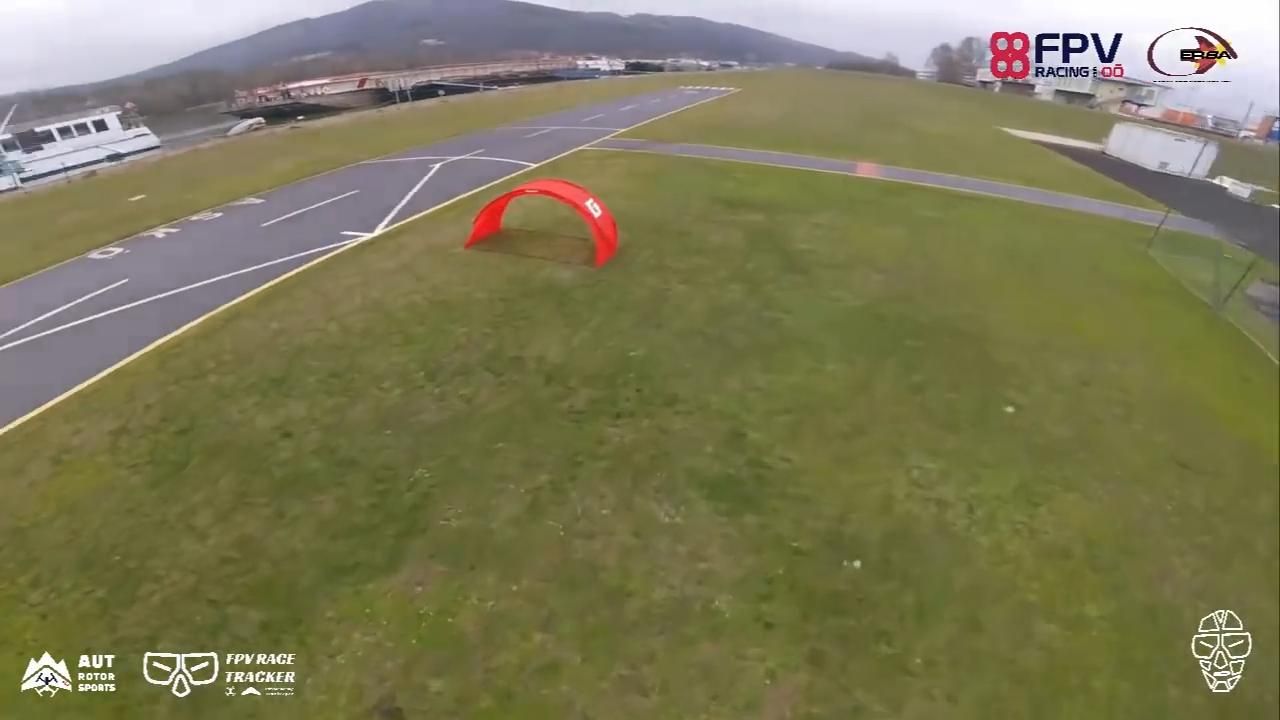gate: (463, 174, 618, 271)
